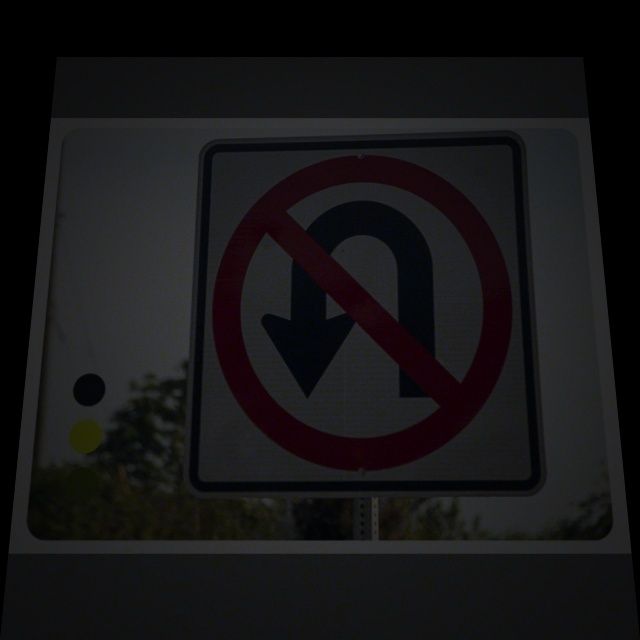U_Turn_Prohibited: (207, 151, 533, 478)
